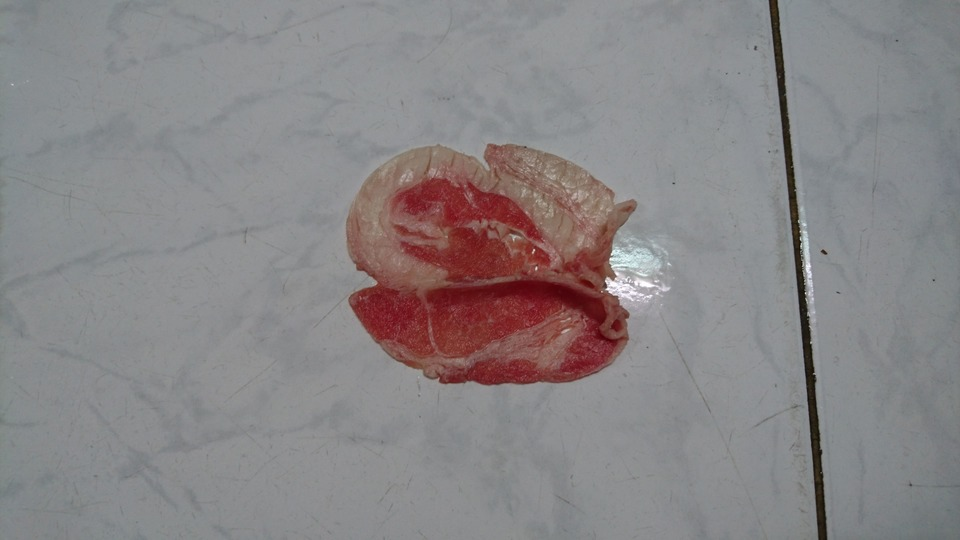restructured meat: (342, 144, 631, 384)
